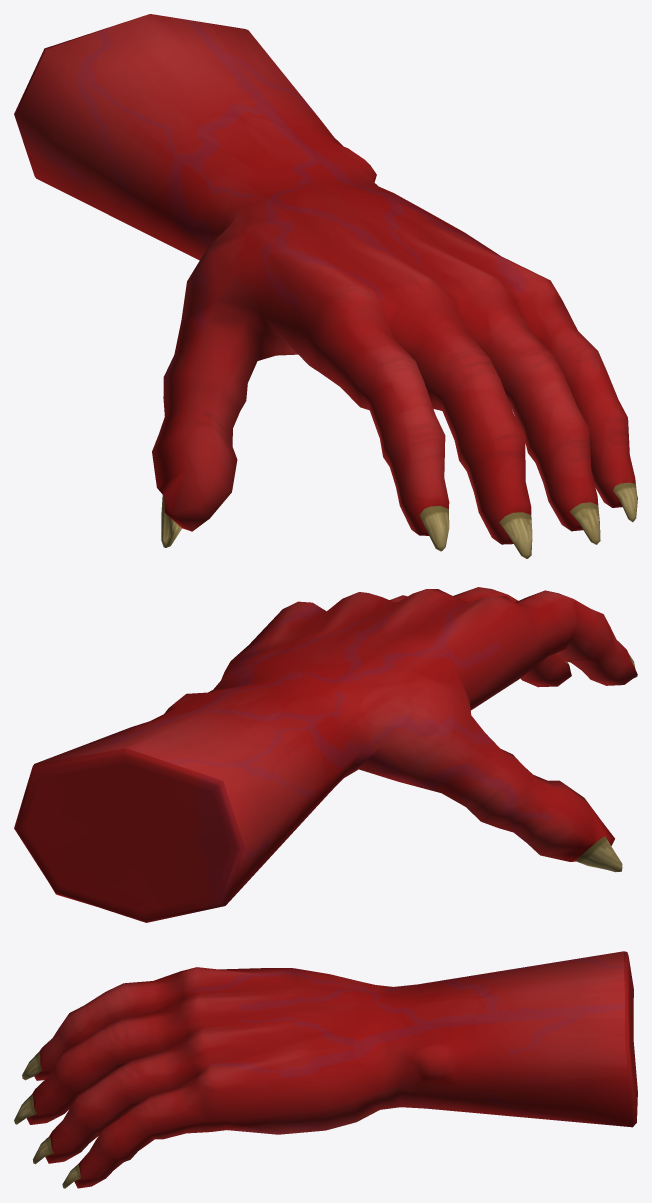
Rendered from demon_hand_idle.FBX.
3 renders of one model, top to bottom at view 1: azimuth 30°, elevation 25°; view 2: azimuth 150°, elevation 25°; view 3: azimuth 270°, elevation 25°, orthographic. The views are drawn at different scales.
Parts seen in each view (by area): view 1: demon_hand; view 2: demon_hand; view 3: demon_hand.
Part boxes in pixels (box(x1,y1,x2,y2)): demon_hand: box(14, 14, 637, 558); demon_hand: box(14, 587, 637, 922); demon_hand: box(14, 951, 637, 1188).
Bounding box in the file's own units: 13.77 × 9.3 × 27.06.
1 material, 1 textured.
